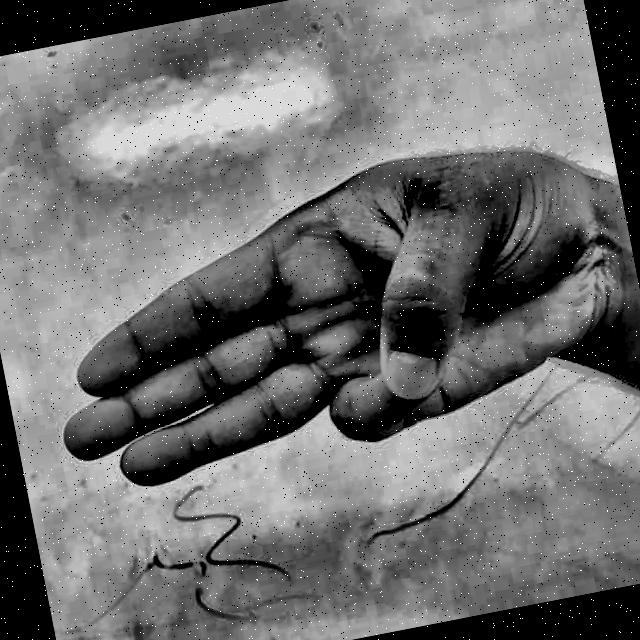Ma: (2, 98, 640, 557)
